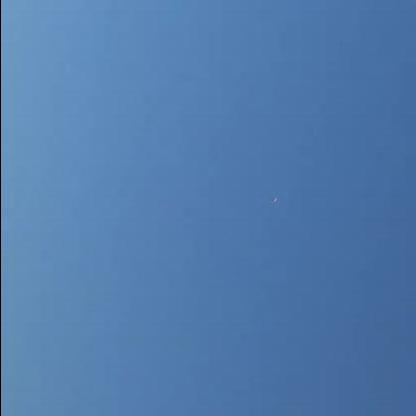plane: (266, 193, 283, 207)
